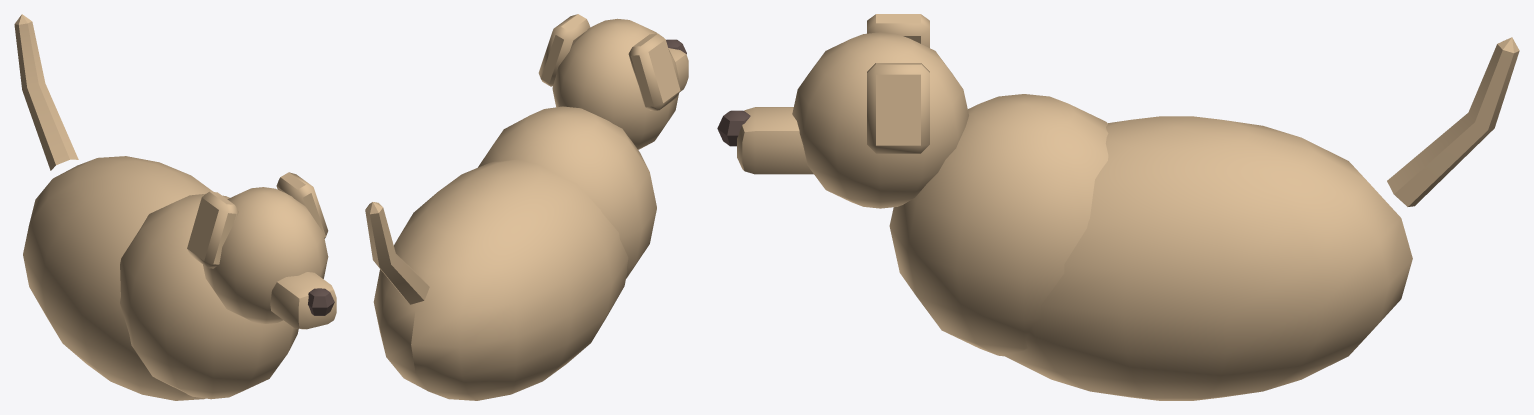
File: dog_body.glb
3 renders of one model, left to right at view 1: azimuth 30°, elevation 25°; view 2: azimuth 150°, elevation 25°; view 3: azimuth 270°, elevation 25°, orthographic. The views are drawn at different scales.
Parts seen in each view (by area): view 1: dog_body; view 2: dog_body; view 3: dog_body.
Part boxes in pixels (x1,y1,x2,y2): dog_body: [14, 14, 336, 400]; dog_body: [365, 14, 688, 400]; dog_body: [717, 14, 1519, 400].
Size of the model in its own units: 0.2983 by 0.434 by 0.8945.
